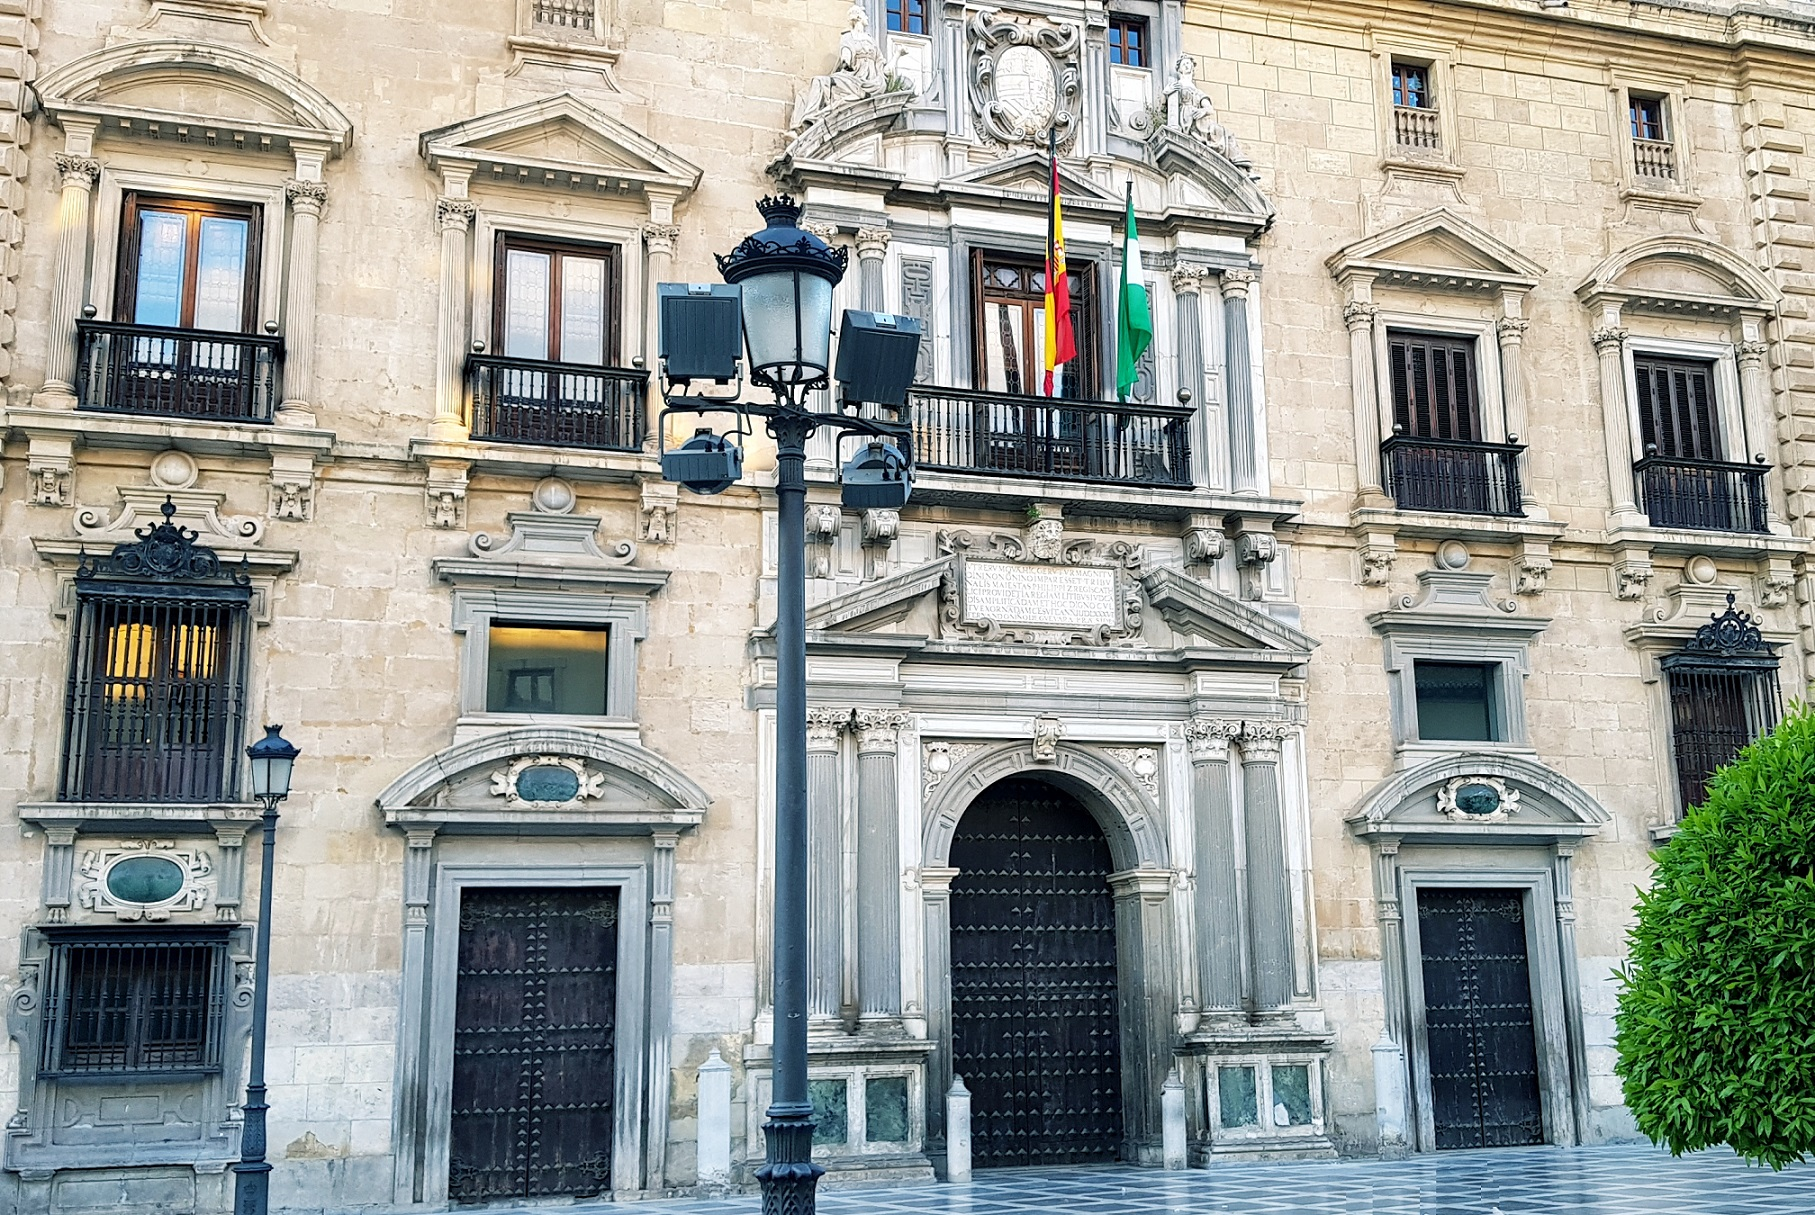arco-medio-punto: (933, 759, 1154, 904)
fronton: (413, 85, 709, 199), (1332, 205, 1553, 297), (937, 148, 1129, 217)
fronton-curvo: (26, 38, 362, 161), (371, 724, 722, 841), (1347, 751, 1616, 843), (1585, 233, 1788, 324)
fronton-partido: (783, 85, 1281, 239), (804, 552, 1330, 673)
vano-adintelado: (412, 856, 661, 1210), (53, 178, 329, 419), (432, 202, 685, 450), (1393, 862, 1572, 1151), (1343, 302, 1536, 517), (1598, 331, 1780, 533)
